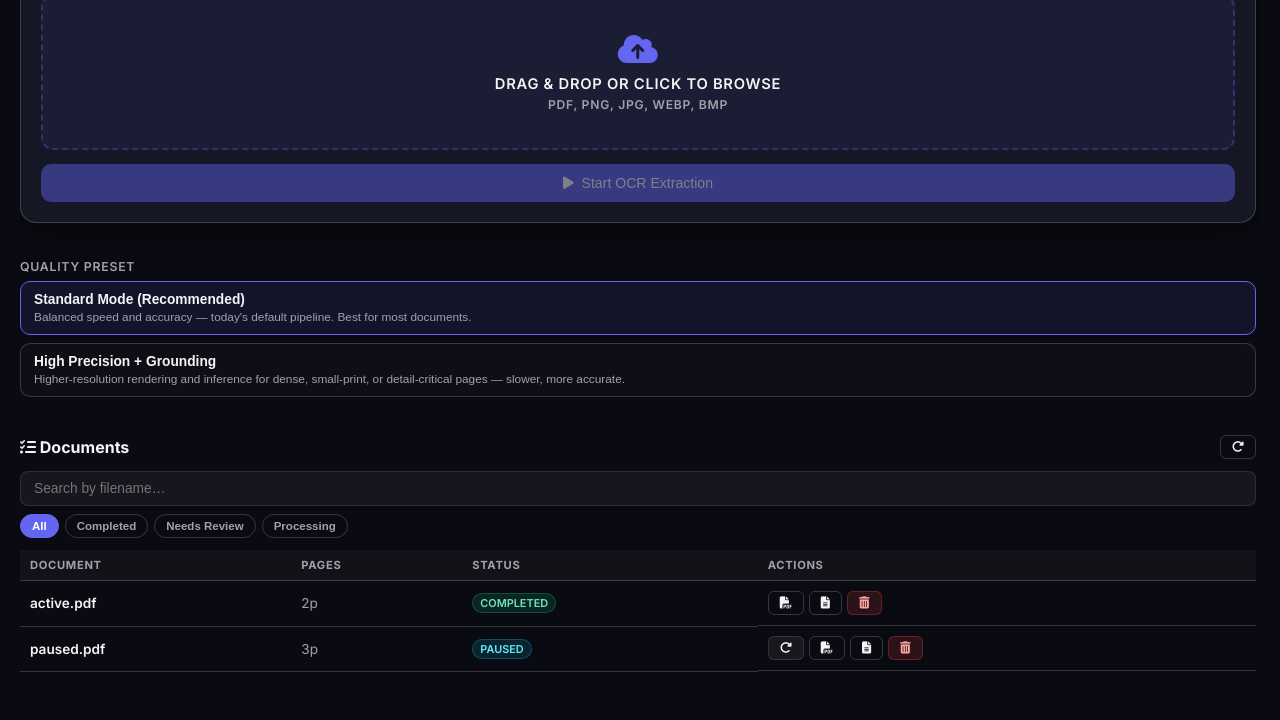
AppShell/StudioView — resuming a job no longer needs a lucky poll to notice it (regression) › 3. resuming from the history list navigates into Studio and shows that job
The width and height of the screenshot is (1280, 720).
(page scrolled)
Click the button with class "fa-rotate-right" at (786, 648), box [768,636,804,660]
(page scrolled)
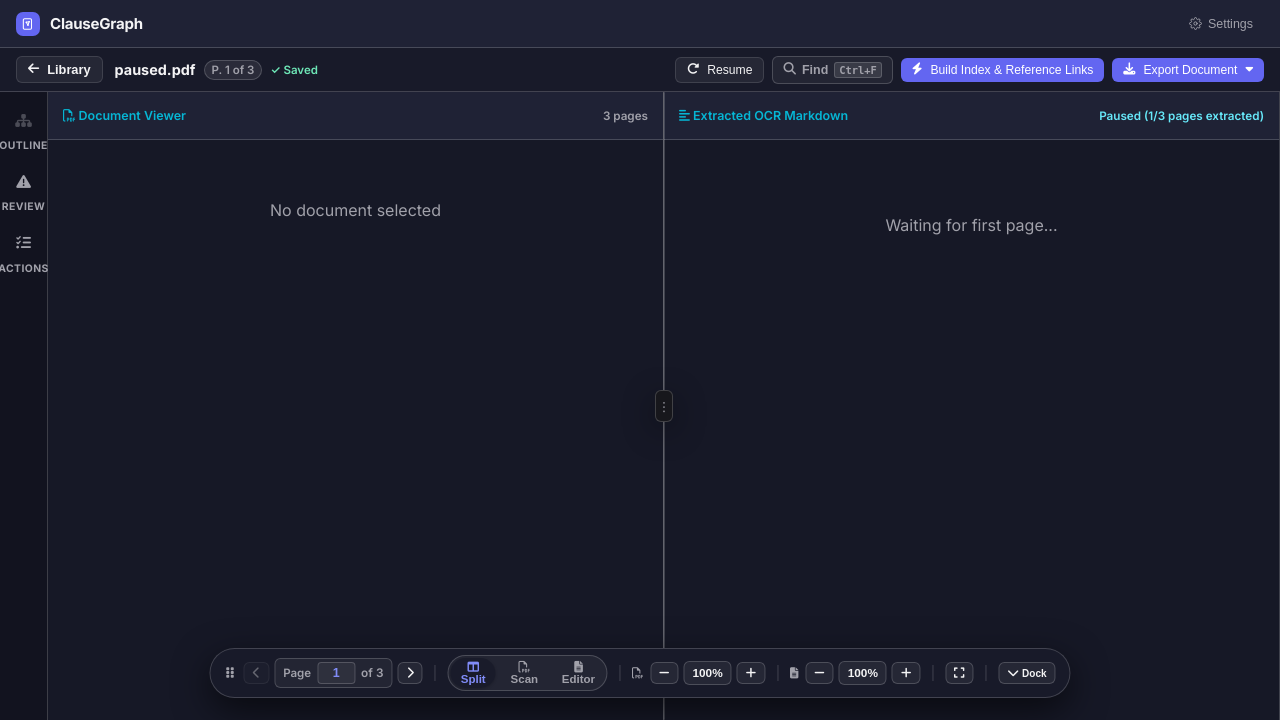
Expected: the text "paused.pdf" is shown, [115,61,196,78]
Expected: the button with test id "back-to-library-btn" is shown, [16,56,103,83]
